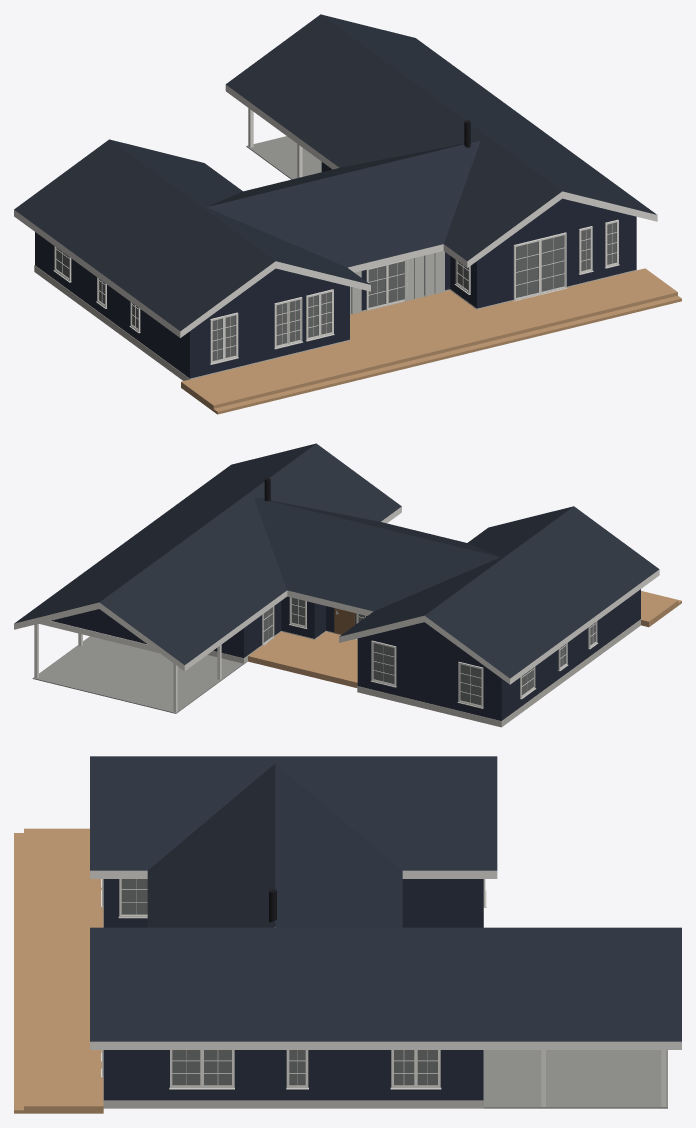
The model's file is teder224_c1_p1_m1.glb.
The picture shows the model from 3 angles, top to bottom: view 1: azimuth 30°, elevation 25°; view 2: azimuth 150°, elevation 25°; view 3: azimuth 270°, elevation 25°; orthographic projection. The views are drawn at different scales.
Visible parts, largest first — view 1: roof, deck, wall, glass, curtain, fascia, frame, panel, paving, plinth; view 2: roof, wall, paving, fascia, deck, glass, curtain, plinth, frame, door; view 3: roof, deck, wall, paving, fascia, glass, curtain, plinth, frame.
Part boxes in pixels (x1,y1,x2,y2): roof: (14, 14, 656, 331); deck: (181, 268, 681, 414); wall: (35, 162, 636, 378); glass: (56, 222, 616, 360); curtain: (56, 222, 616, 360); fascia: (14, 85, 657, 337); frame: (53, 219, 619, 364); panel: (350, 251, 444, 314); paving: (246, 136, 321, 179); plinth: (34, 265, 636, 380); roof: (14, 443, 659, 678); wall: (51, 589, 640, 720); paving: (32, 636, 243, 713); fascia: (14, 506, 659, 712); deck: (248, 591, 681, 687); glass: (263, 598, 595, 705); curtain: (263, 598, 595, 704); plinth: (207, 619, 641, 727); frame: (262, 597, 598, 708); door: (334, 608, 355, 634); roof: (90, 756, 681, 1041); deck: (14, 828, 103, 1113); wall: (103, 879, 483, 1100); paving: (484, 1050, 667, 1108); fascia: (90, 870, 681, 1106); glass: (121, 879, 437, 1085); curtain: (121, 879, 437, 1085); plinth: (103, 907, 483, 1108); frame: (101, 879, 486, 1089).
Size of the model in its own units: 21.93 by 5.66 by 21.72.
Materials: 14 (5 with a texture image).
